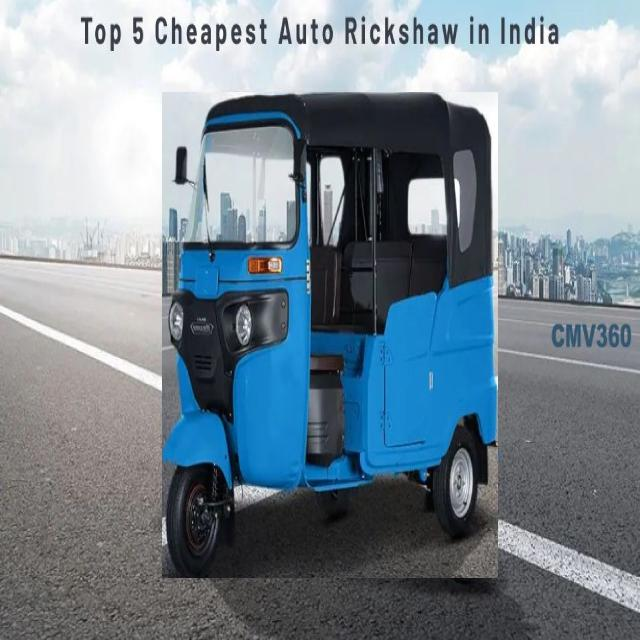autorickshaw: (162, 93, 498, 578)
